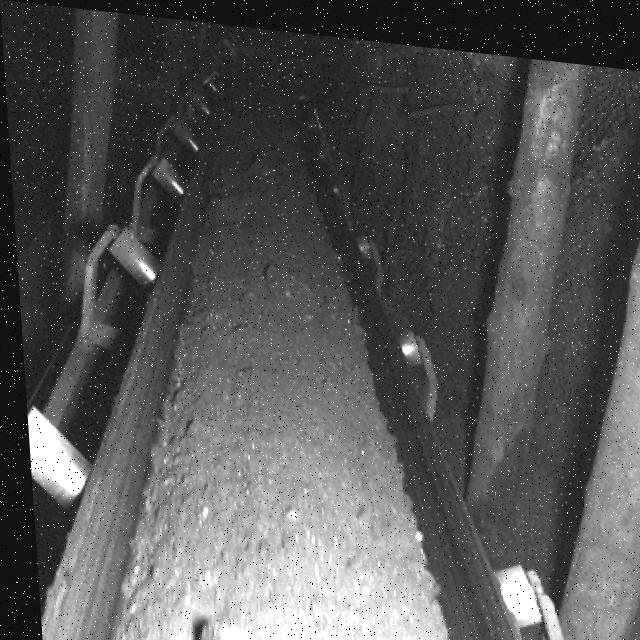large_sized_coal: (189, 615, 295, 640)
